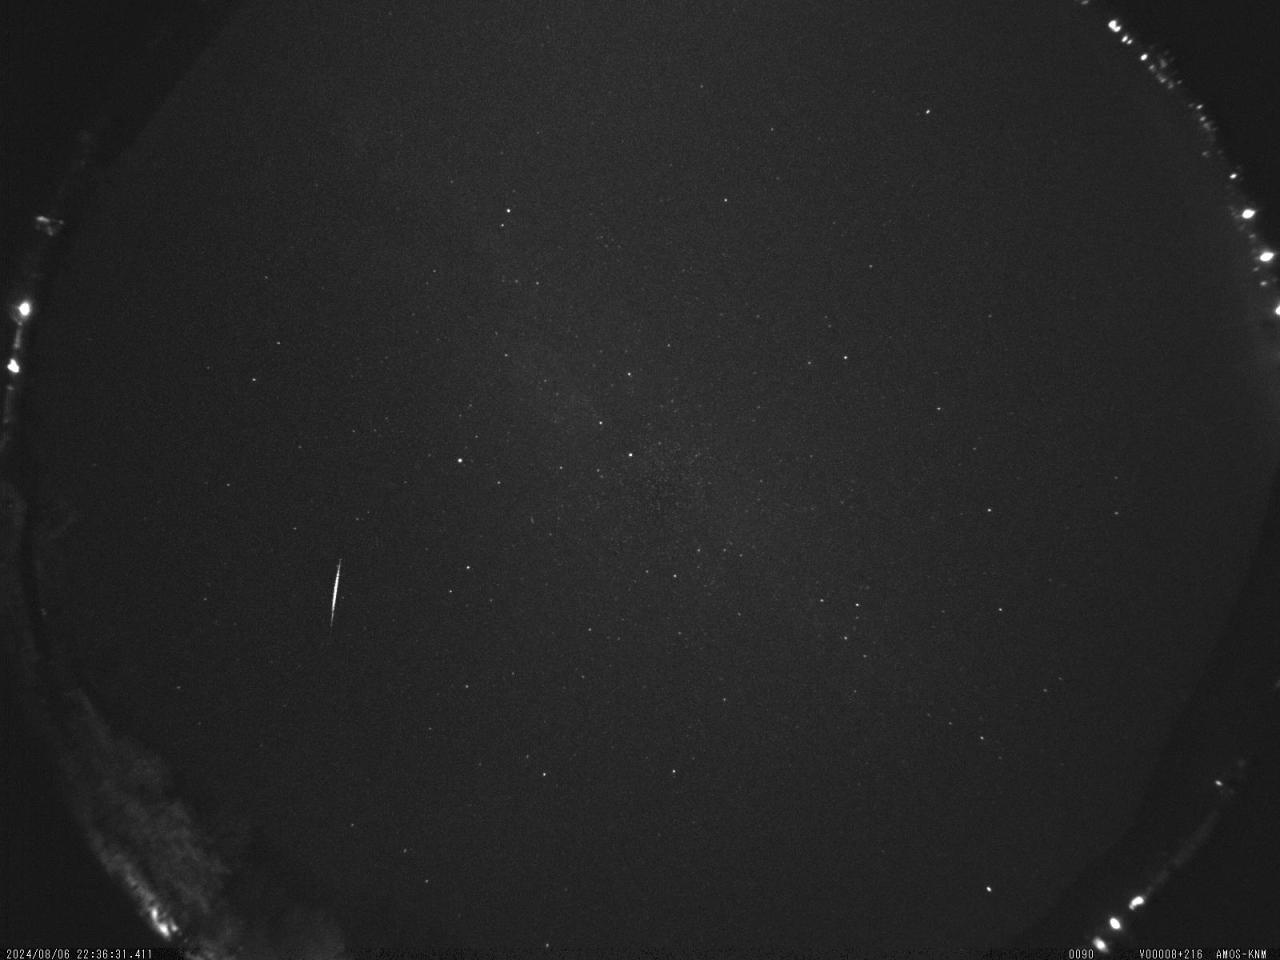Meteor: (324, 552, 347, 631)
